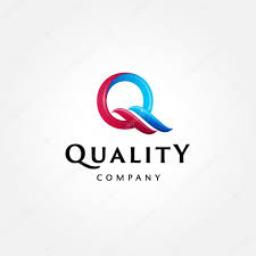q: (96, 68, 176, 140)
